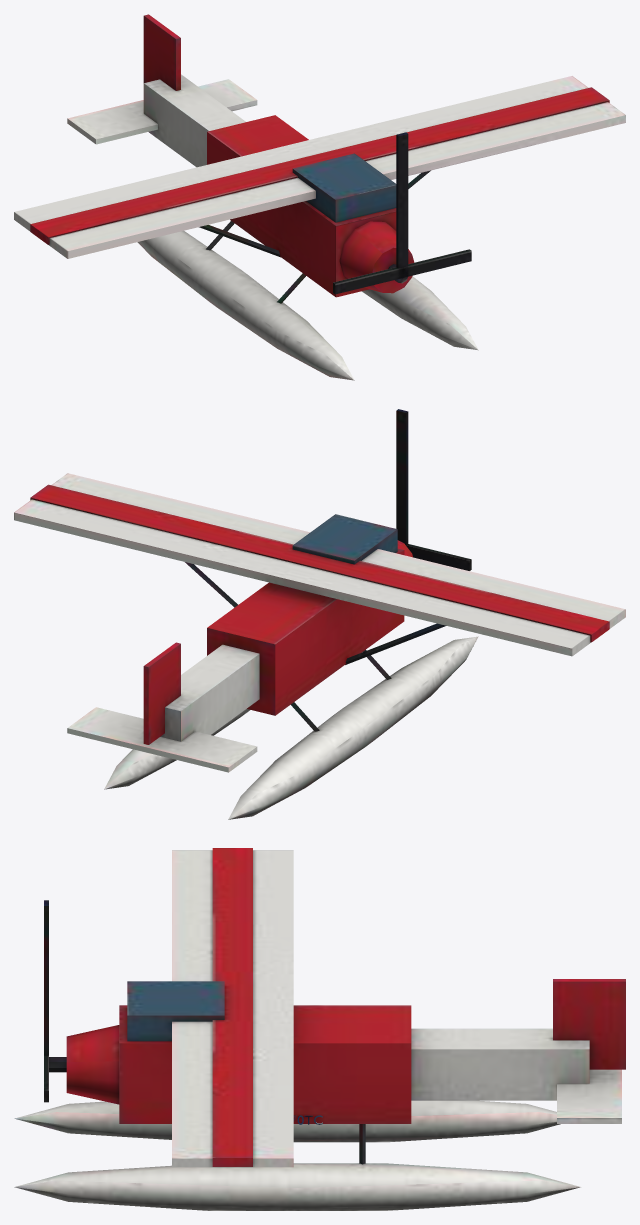
File: hidroavion.glb
The picture shows the model from 3 angles, top to bottom: view 1: azimuth 30°, elevation 25°; view 2: azimuth 150°, elevation 25°; view 3: azimuth 270°, elevation 25°; orthographic projection. The views are drawn at different scales.
Visible parts, largest first — view 1: hidroavion; view 2: hidroavion; view 3: hidroavion.
Part boxes in pixels (x1,y1,x2,y2): hidroavion: (14, 14, 625, 380); hidroavion: (14, 409, 625, 819); hidroavion: (14, 848, 625, 1210).
Size of the model in its own units: 9.05 by 3.7 by 7.55.
1 material, 1 textured.
